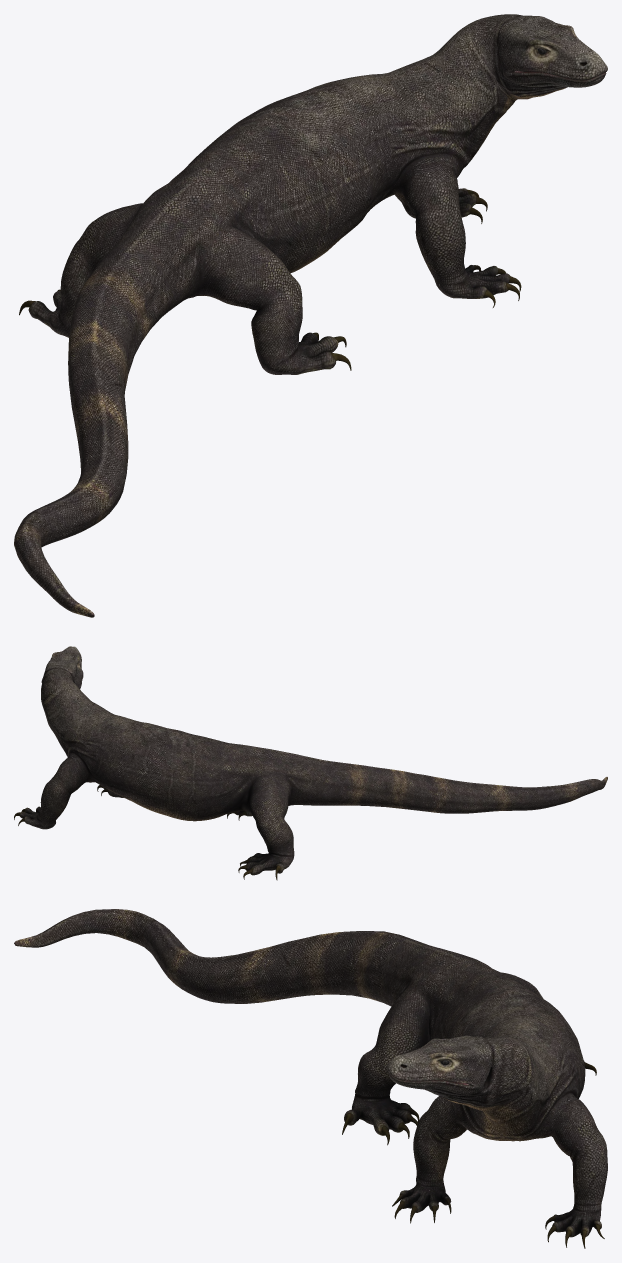
File: komodo.glb
3 renders of one model, top to bottom at view 1: azimuth 30°, elevation 25°; view 2: azimuth 150°, elevation 25°; view 3: azimuth 270°, elevation 25°, orthographic. The views are drawn at different scales.
Parts seen in each view (by area): view 1: Object_5; view 2: Object_5; view 3: Object_5.
Boxes of the visible parts, x1,y1,x2,y2 form: Object_5: [14, 14, 607, 617]; Object_5: [14, 646, 607, 880]; Object_5: [14, 909, 607, 1248].
Bounding box in the file's own units: 0.512 × 0.1516 × 0.4052.
1 material, 1 textured.
